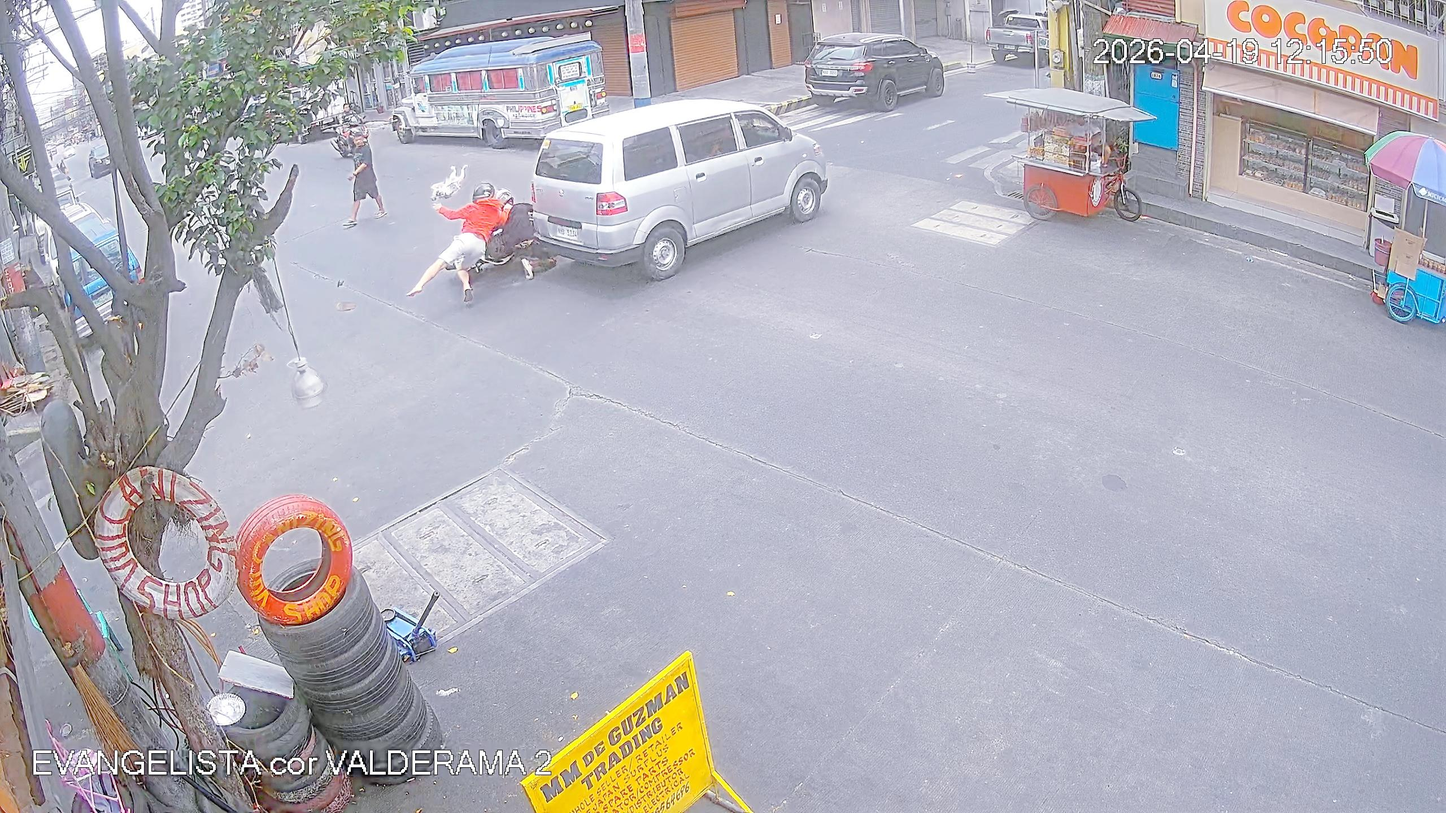Car: (550, 108, 832, 275)
Minor Accident: (429, 106, 831, 307)
Motor: (434, 178, 555, 298)
